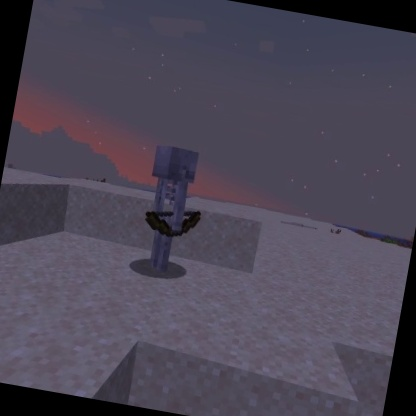skeleton: (131, 140, 216, 282)
